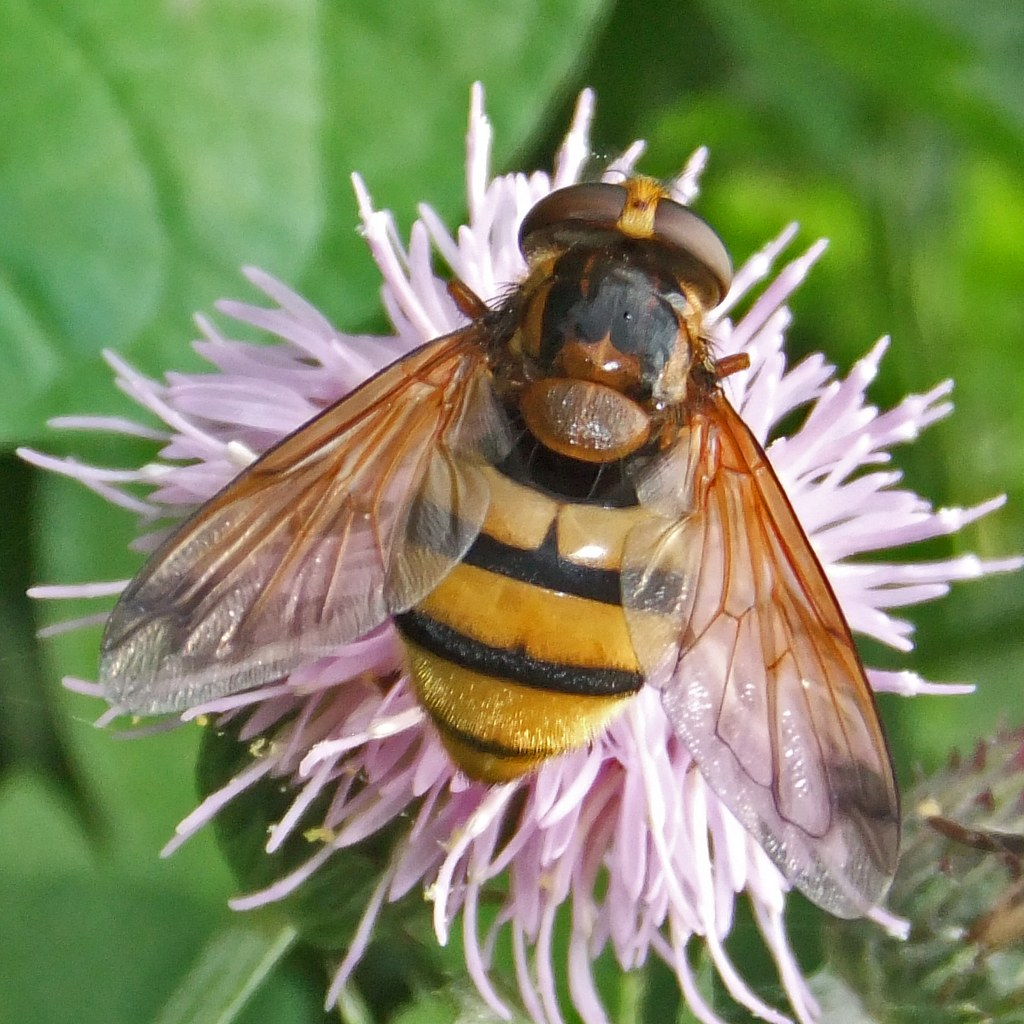bee: (87, 179, 919, 959)
insect: (103, 53, 940, 908)
